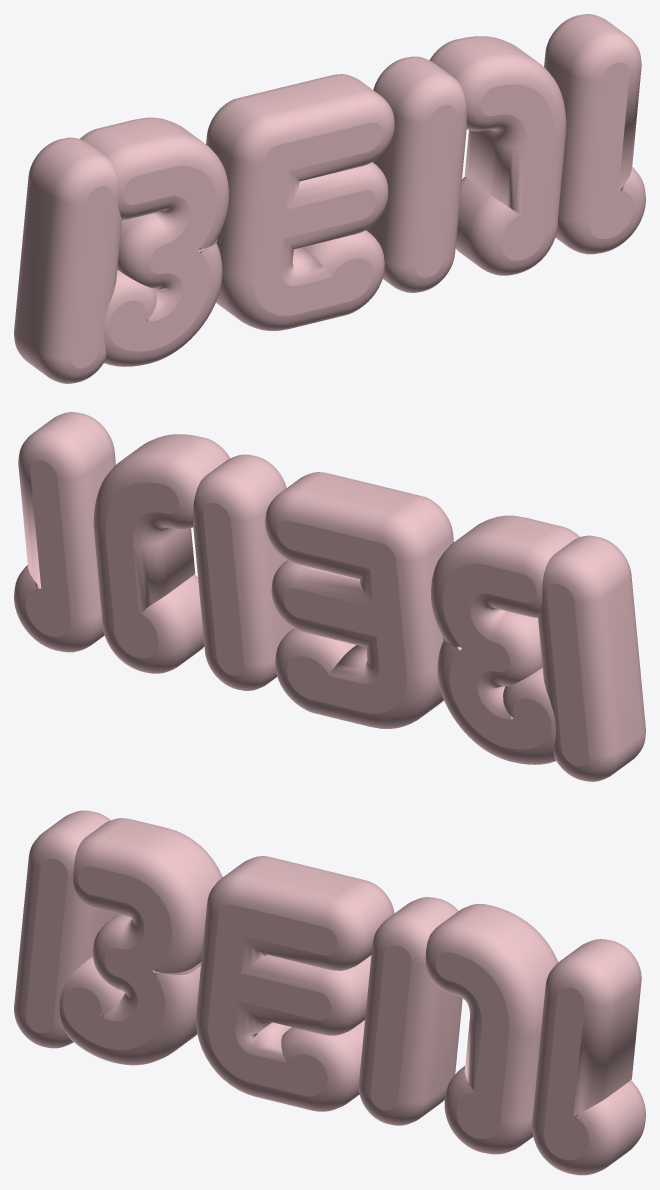
3 views of the same model, one above another, from view 1: azimuth 30°, elevation 25°; view 2: azimuth 150°, elevation 25°; view 3: azimuth 330°, elevation 25° (orthographic).
Parts seen in each view (by area): view 1: Beni; view 2: Beni; view 3: Beni.
Boxes of the visible parts, x1=… form: Beni: x1=14, y1=14, x2=645, y2=383; Beni: x1=14, y1=412, x2=645, y2=781; Beni: x1=14, y1=810, x2=645, y2=1175.
Size of the model in its own units: 2.32 by 0.822 by 0.3.
